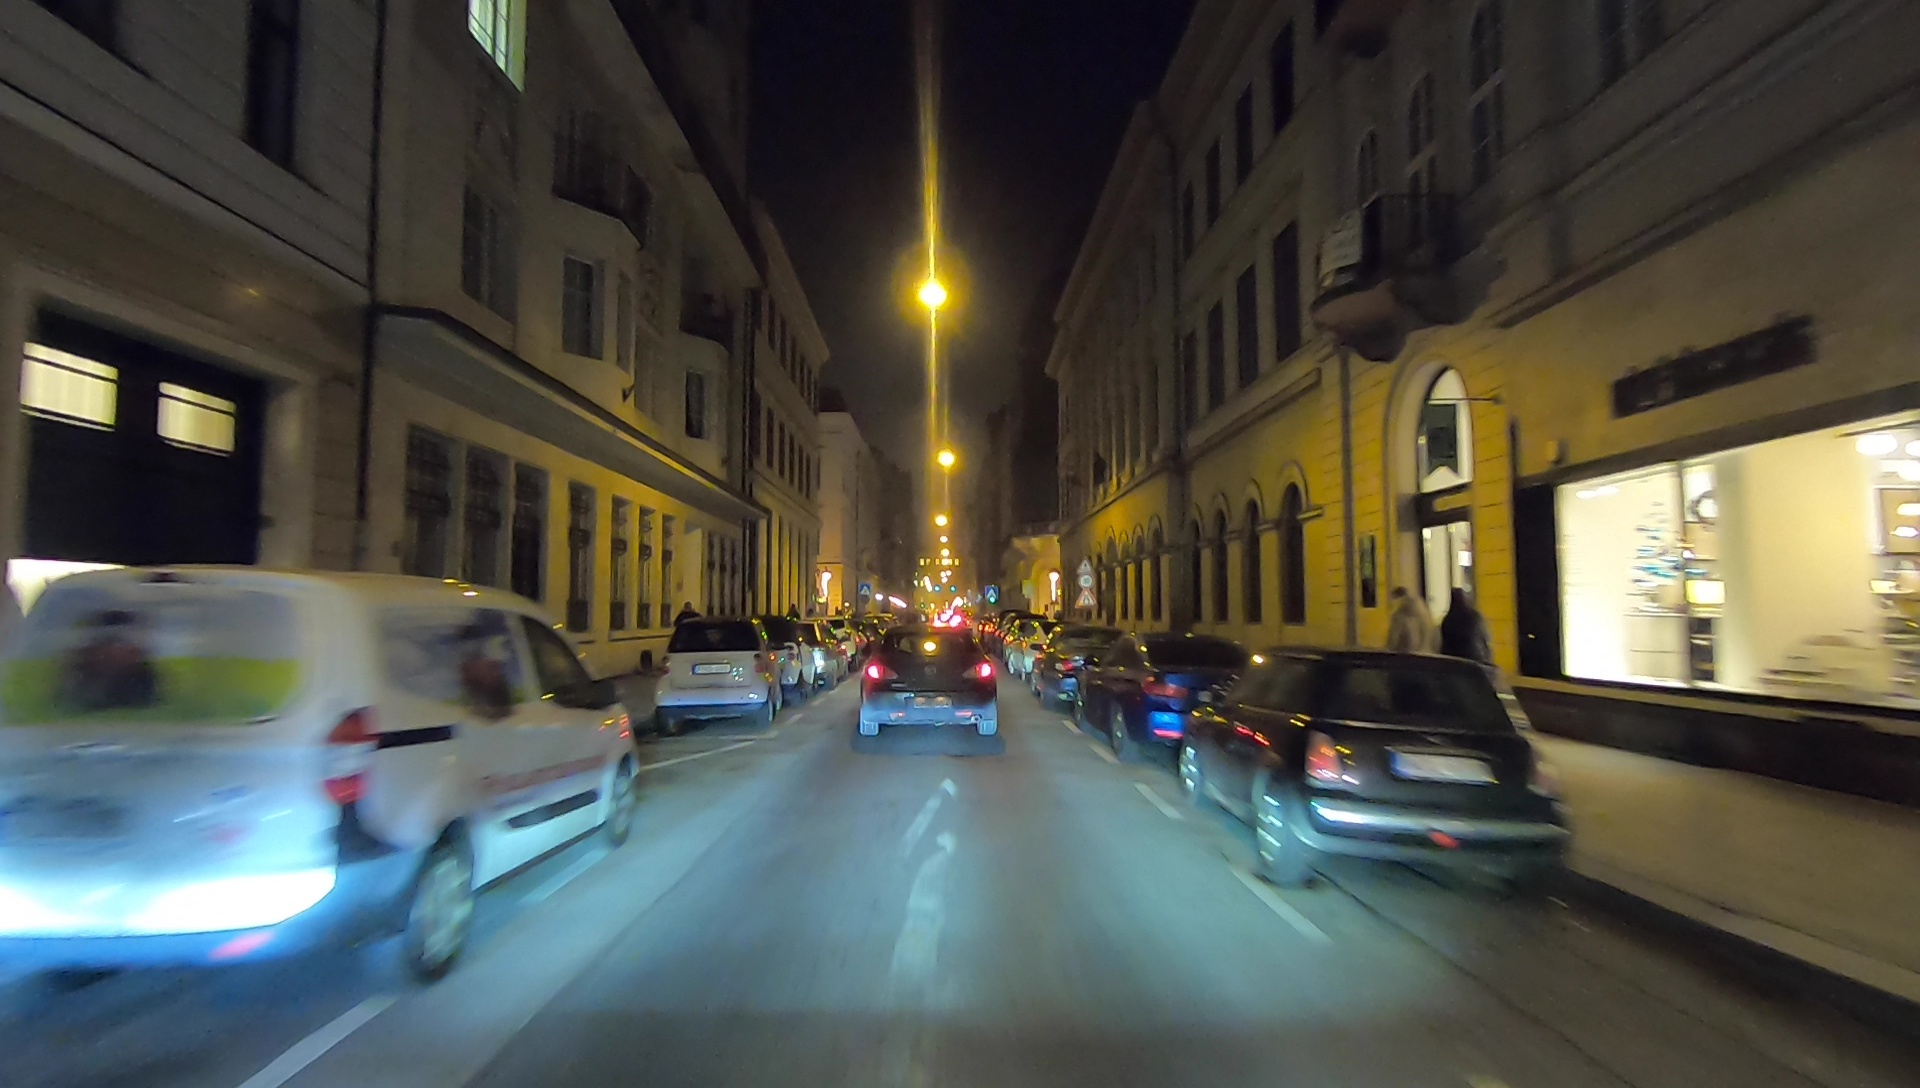person: (1384, 582, 1434, 706), (1443, 587, 1489, 708), (671, 600, 702, 671)
